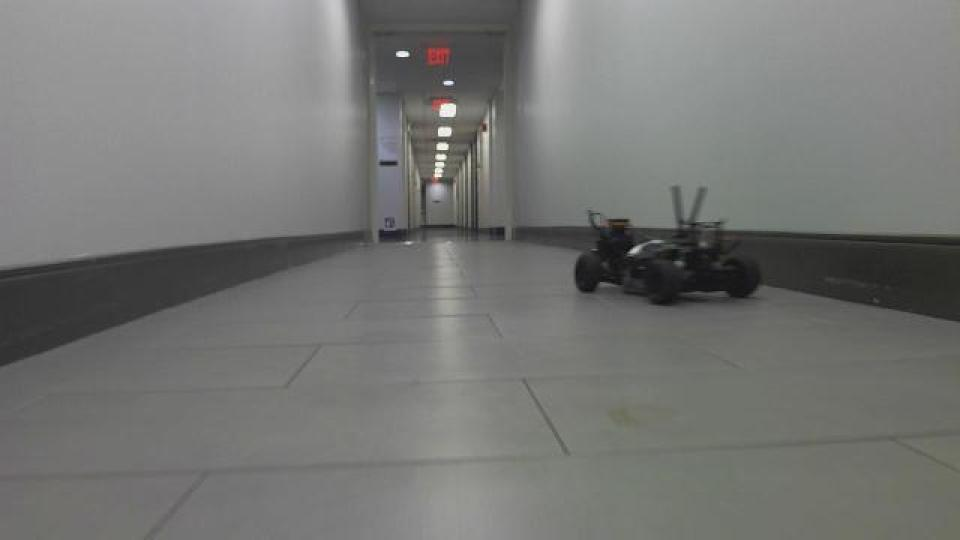car: (570, 182, 764, 308)
